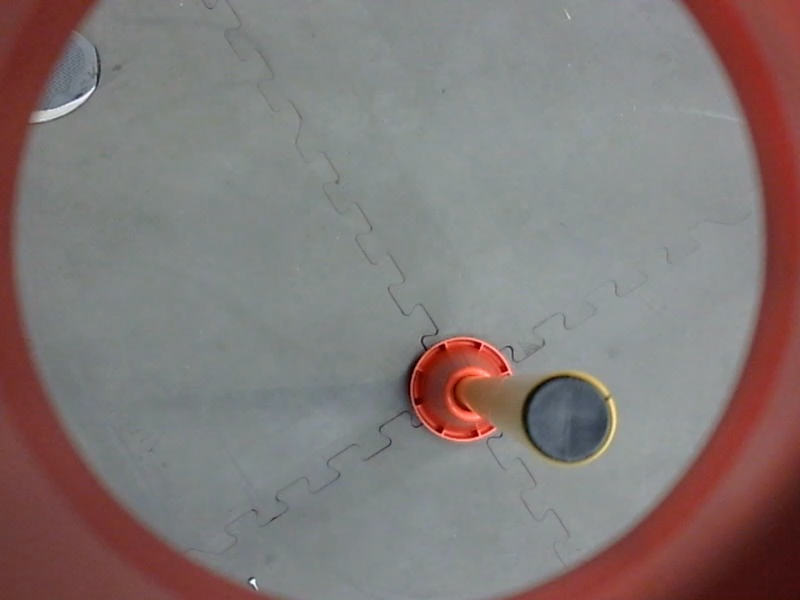tip: (514, 367, 624, 471)
